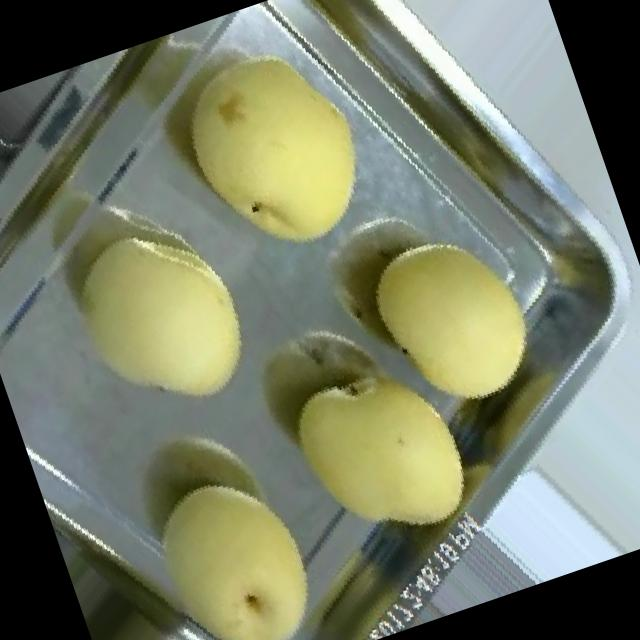Fruit: (133, 0, 414, 302), (242, 286, 512, 577), (24, 175, 291, 456), (342, 198, 571, 442), (109, 433, 361, 640)
